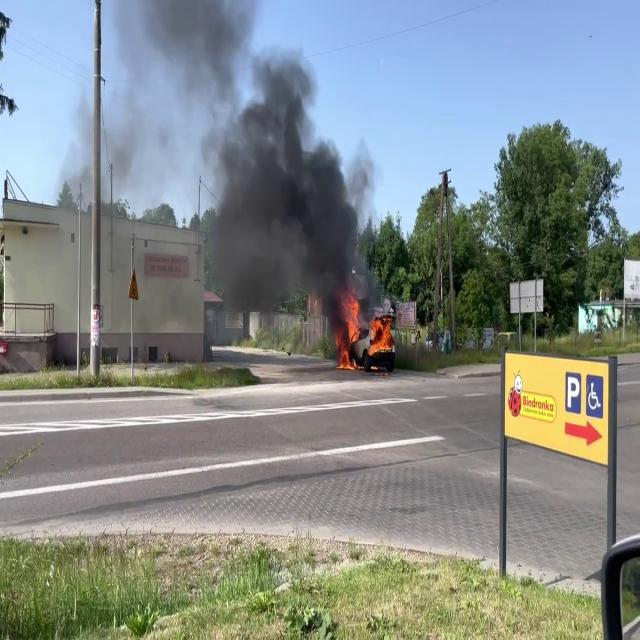Fire: (336, 290, 394, 367)
Smoke: (166, 2, 368, 328)
